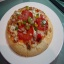pizza: (9, 6, 48, 56)
